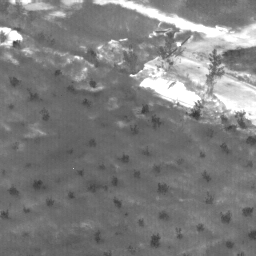aircraft: (178, 44, 180, 46)
